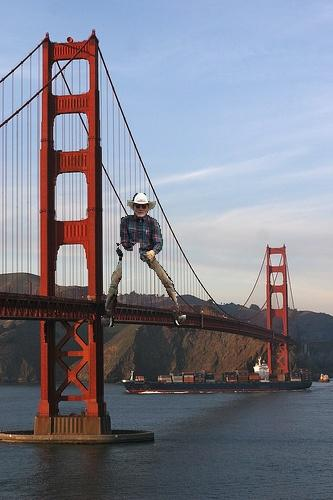tampered: (102, 194, 186, 327)
